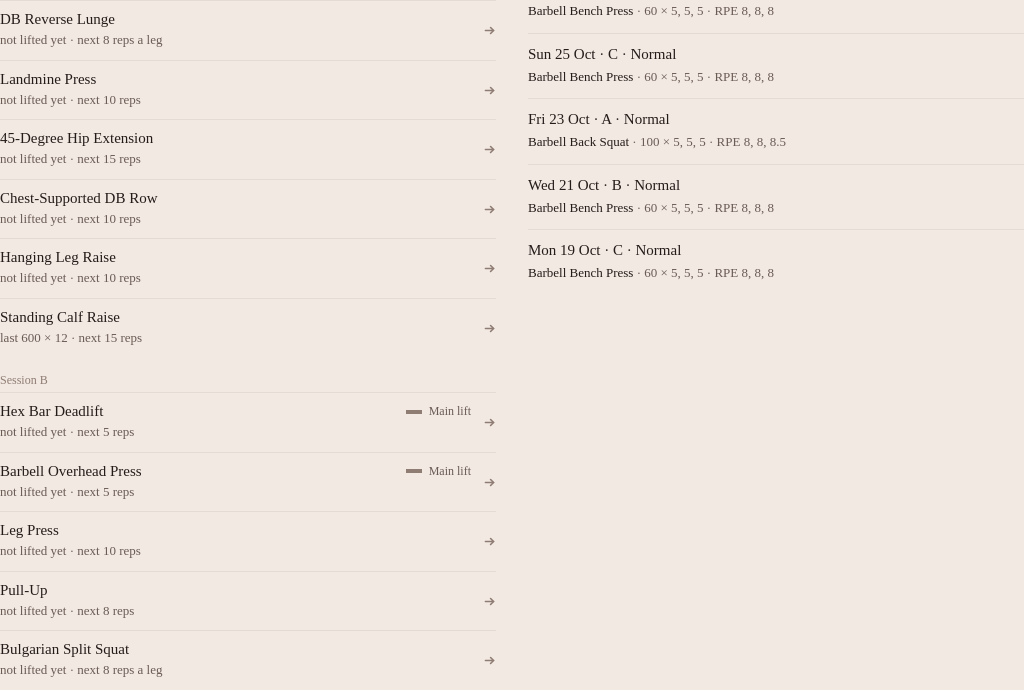
Test: TrainerClientView: the plan › a top set whose deload weight is over the app's top blocks weight changes and says why; reps still change
The width and height of the screenshot is (1024, 690).
(page scrolled)
Click the button "Standing Calf Raise last 600 × 12 · next 15 reps" at (60, 317), box [0,298,496,357]
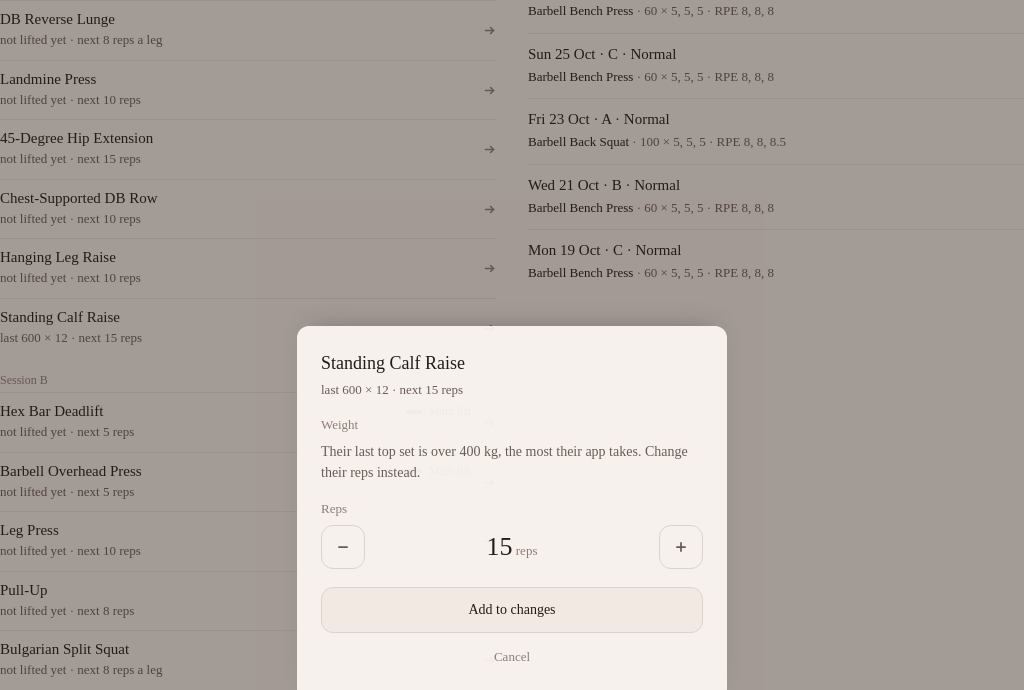
expect the button named "More reps" is enabled: met, box [659,525,703,569]
